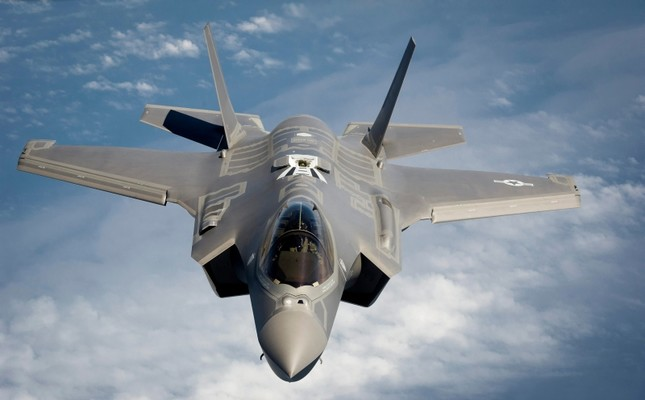F-35 Lightning: (18, 28, 592, 382)
